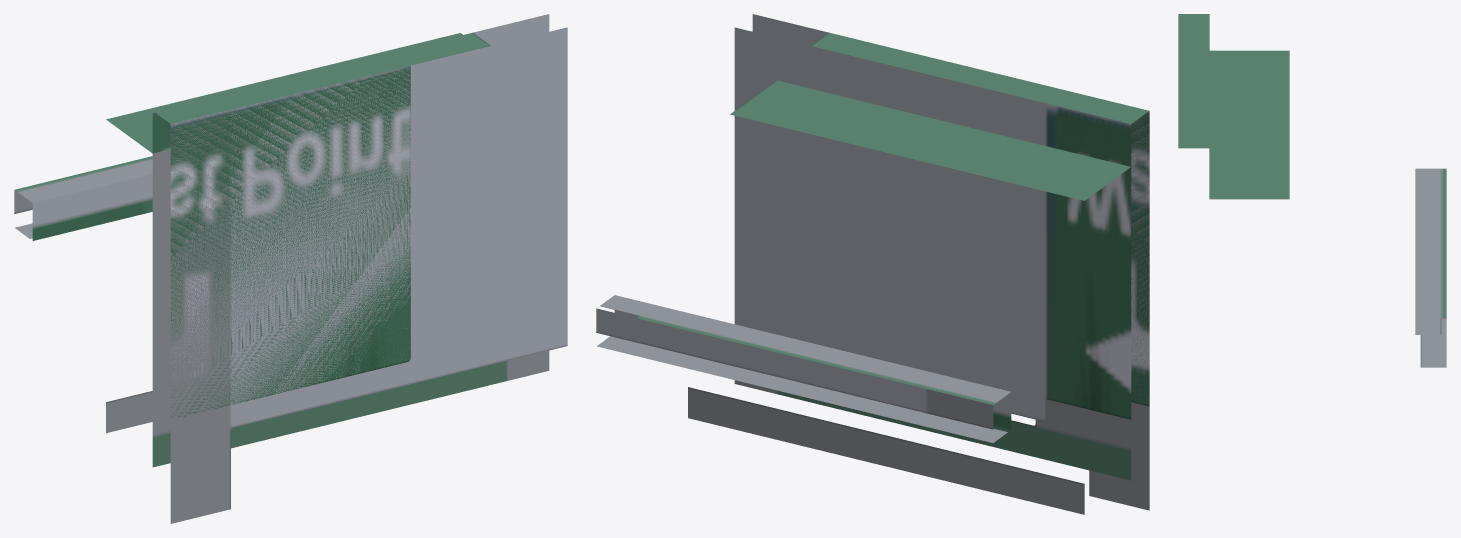
File: section-1.obj
3 views of the same model, side by side, from view 1: azimuth 30°, elevation 25°; view 2: azimuth 150°, elevation 25°; view 3: azimuth 270°, elevation 25° (orthographic). The views are drawn at different scales.
Bounding box in the file's own units: 1 × 0.963 × 0.6823.
